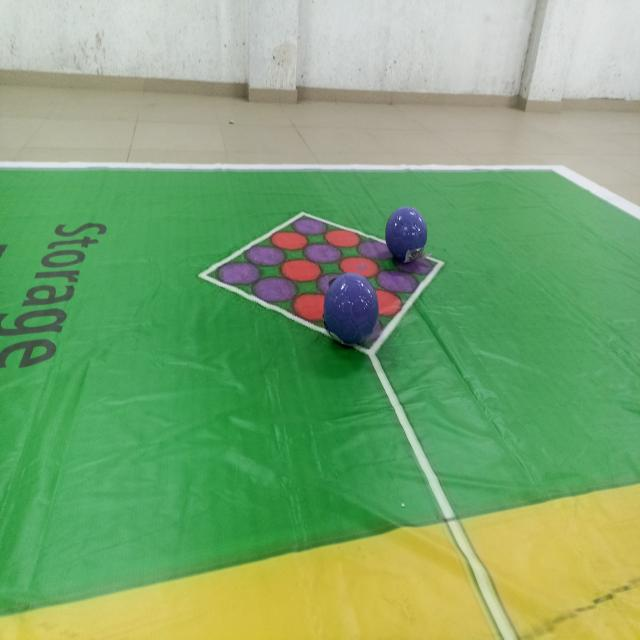purple_ball: (320, 269, 380, 353), (384, 207, 428, 267)
